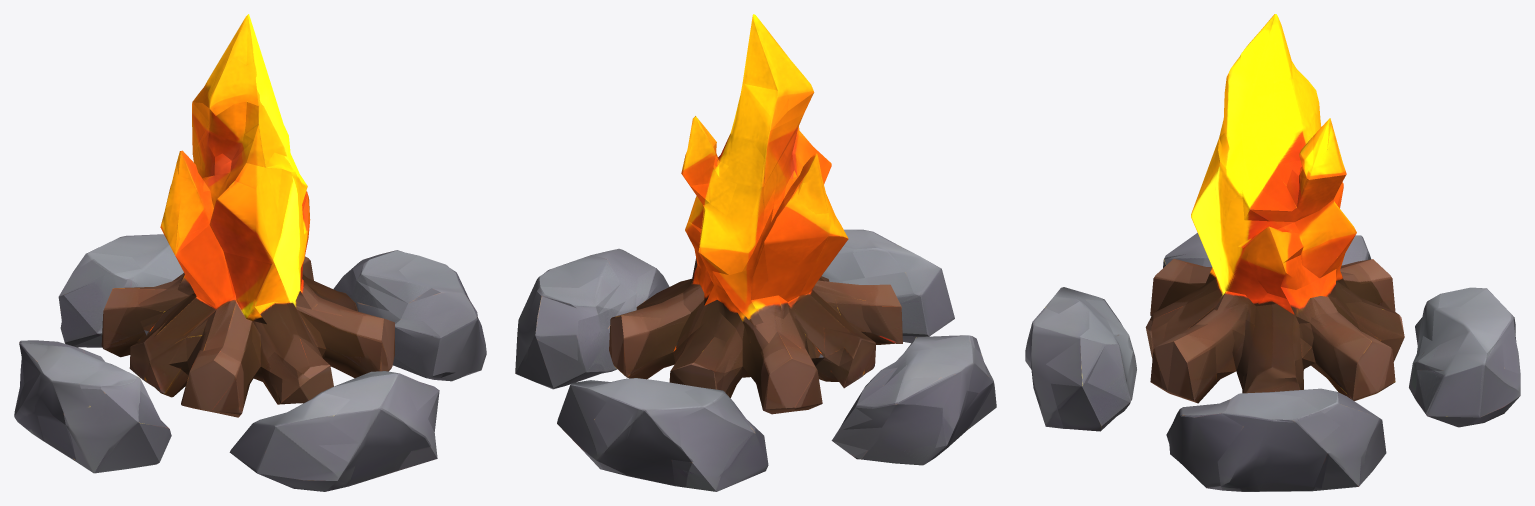
Rendered from camp-fire.glb.
3 renders of one model, left to right at view 1: azimuth 30°, elevation 25°; view 2: azimuth 150°, elevation 25°; view 3: azimuth 270°, elevation 25°, orthographic.
Visible parts, largest first — view 1: output_unwrapped; view 2: output_unwrapped; view 3: output_unwrapped.
Boxes of the visible parts, x1,y1,x2,y2 form: output_unwrapped: [14, 14, 486, 491]; output_unwrapped: [515, 14, 996, 491]; output_unwrapped: [1025, 14, 1520, 491].
Size of the model in its own units: 1.91 by 1.63 by 1.91.
1 material, 1 textured.
